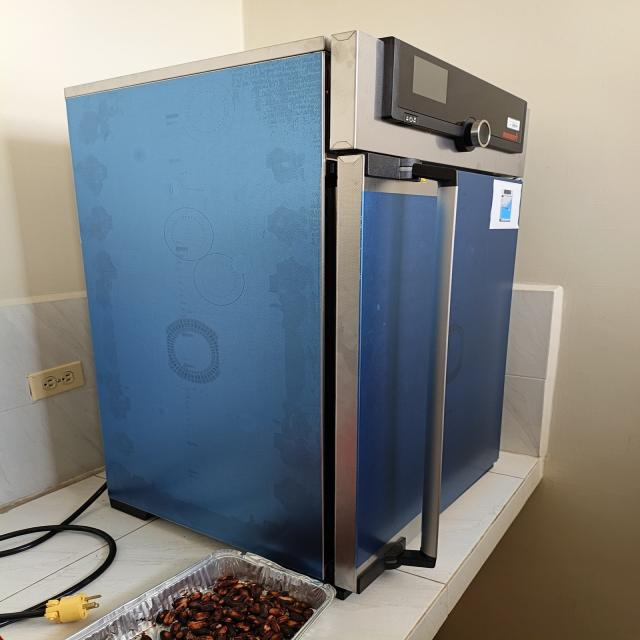Estufa - Horno Universal de Secado: (65, 30, 527, 594)
